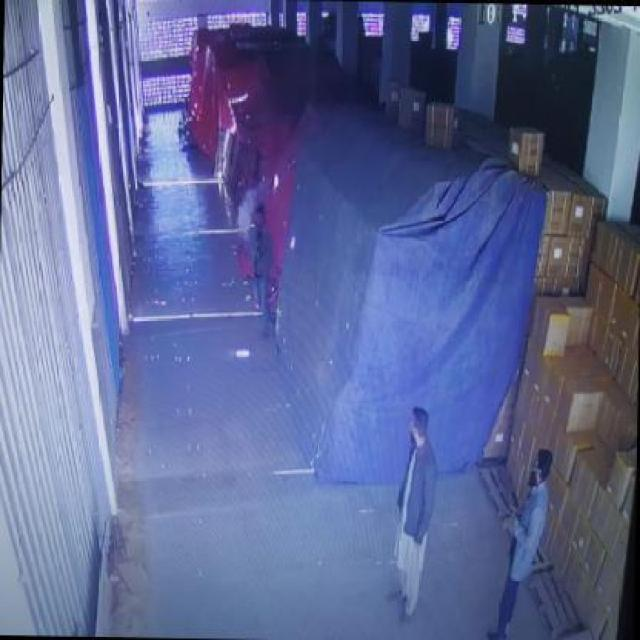fire: (235, 184, 258, 242)
